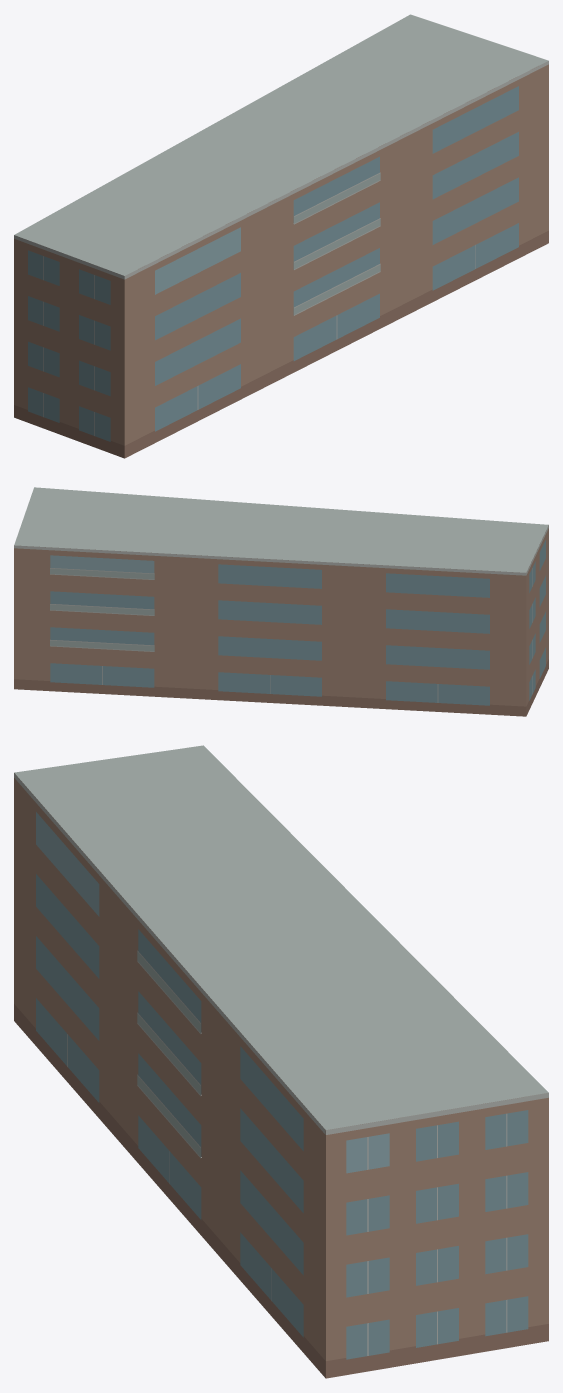
File: residential-7b026d4b-6195-4d7e-980c-54695c5d8e9b.glb
3 renders of one model, top to bottom at view 1: azimuth 30°, elevation 25°; view 2: azimuth 150°, elevation 25°; view 3: azimuth 270°, elevation 25°, orthographic. The views are drawn at different scales.
Parts seen in each view (by area): view 1: residential-7b026d4b-6195-4d7e-980c-54695c5d8e9b.tmp; view 2: residential-7b026d4b-6195-4d7e-980c-54695c5d8e9b.tmp; view 3: residential-7b026d4b-6195-4d7e-980c-54695c5d8e9b.tmp.
Boxes of the visible parts, x1=… form: residential-7b026d4b-6195-4d7e-980c-54695c5d8e9b.tmp: x1=14, y1=14, x2=548, y2=458; residential-7b026d4b-6195-4d7e-980c-54695c5d8e9b.tmp: x1=14, y1=487, x2=548, y2=716; residential-7b026d4b-6195-4d7e-980c-54695c5d8e9b.tmp: x1=14, y1=745, x2=548, y2=1378.
Size of the model in its own units: 40.56 by 12.2 by 23.82.
